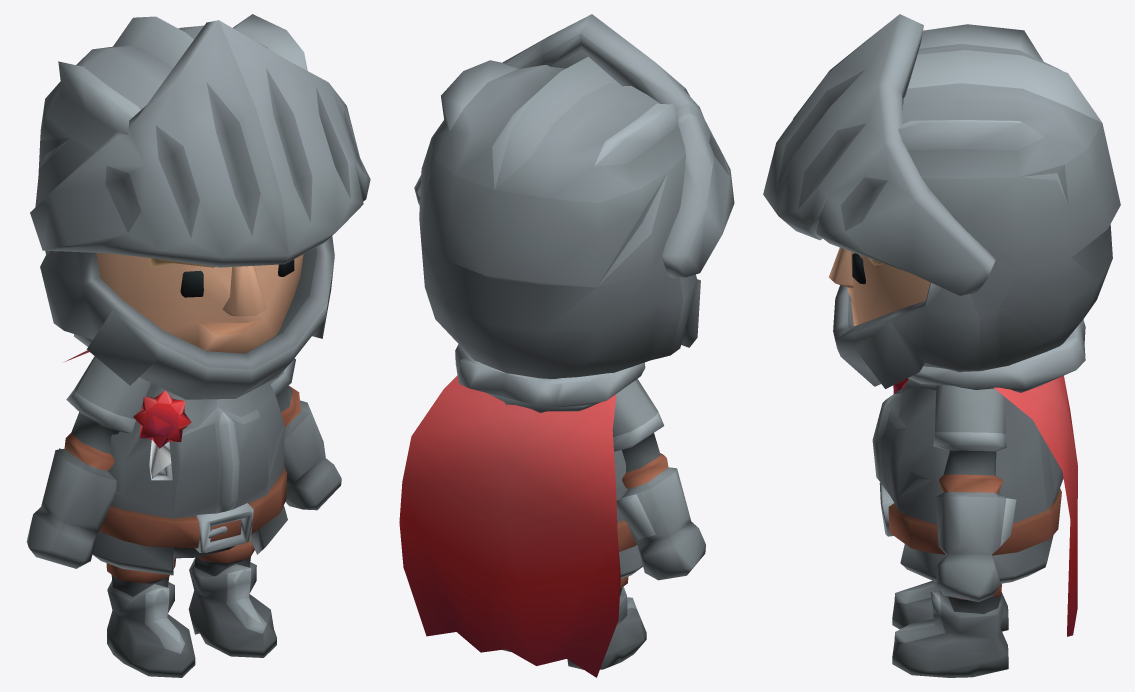
The model's file is hero-samuel.glb.
The picture shows the model from 3 angles, left to right: view 1: azimuth 30°, elevation 25°; view 2: azimuth 150°, elevation 25°; view 3: azimuth 270°, elevation 25°; orthographic projection. The views are drawn at different scales.
Parts seen in each view (by area): view 1: hero:samuel; view 2: hero:samuel; view 3: hero:samuel.
Part boxes in pixels (x1,y1,x2,y2): hero:samuel: (26, 14, 370, 677); hero:samuel: (399, 14, 734, 677); hero:samuel: (763, 14, 1120, 677).
Bounding box in the file's own units: 0.6539 × 1.35 × 0.6942.
1 material, 1 textured.
